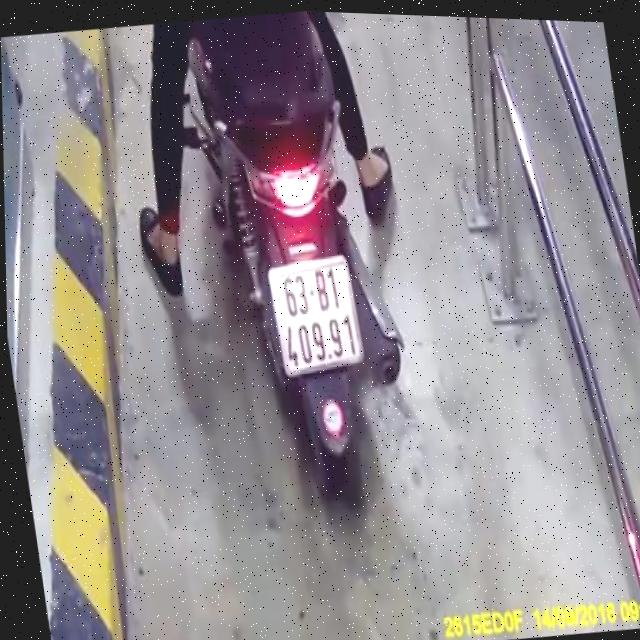motorcycle: (173, 20, 434, 542)
plate: (259, 249, 366, 380)
